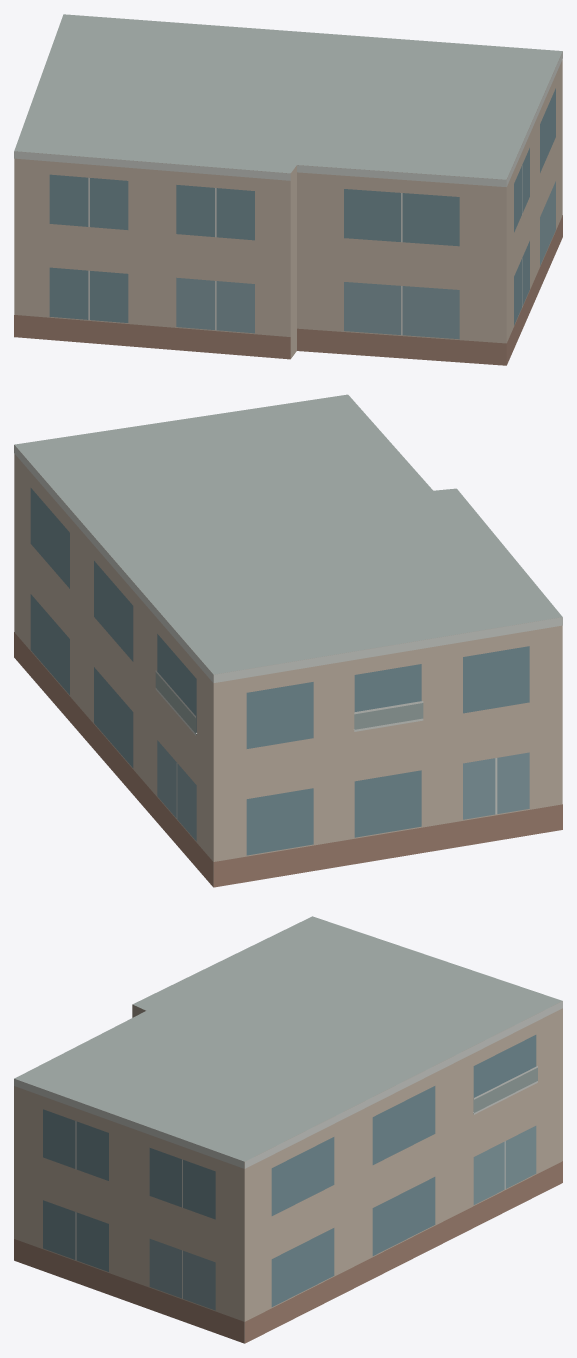
File: survey-upis-32687914.glb
3 renders of one model, top to bottom at view 1: azimuth 30°, elevation 25°; view 2: azimuth 150°, elevation 25°; view 3: azimuth 270°, elevation 25°, orthographic. The views are drawn at different scales.
Parts seen in each view (by area): view 1: survey-upis-32687914.tmp; view 2: survey-upis-32687914.tmp; view 3: survey-upis-32687914.tmp.
Boxes of the visible parts, x1,y1,x2,y2 form: survey-upis-32687914.tmp: (14,14,562,365); survey-upis-32687914.tmp: (14,394,562,887); survey-upis-32687914.tmp: (14,916,562,1343).
Bounding box in the file's own units: 17.66 × 6.1 × 16.68.
